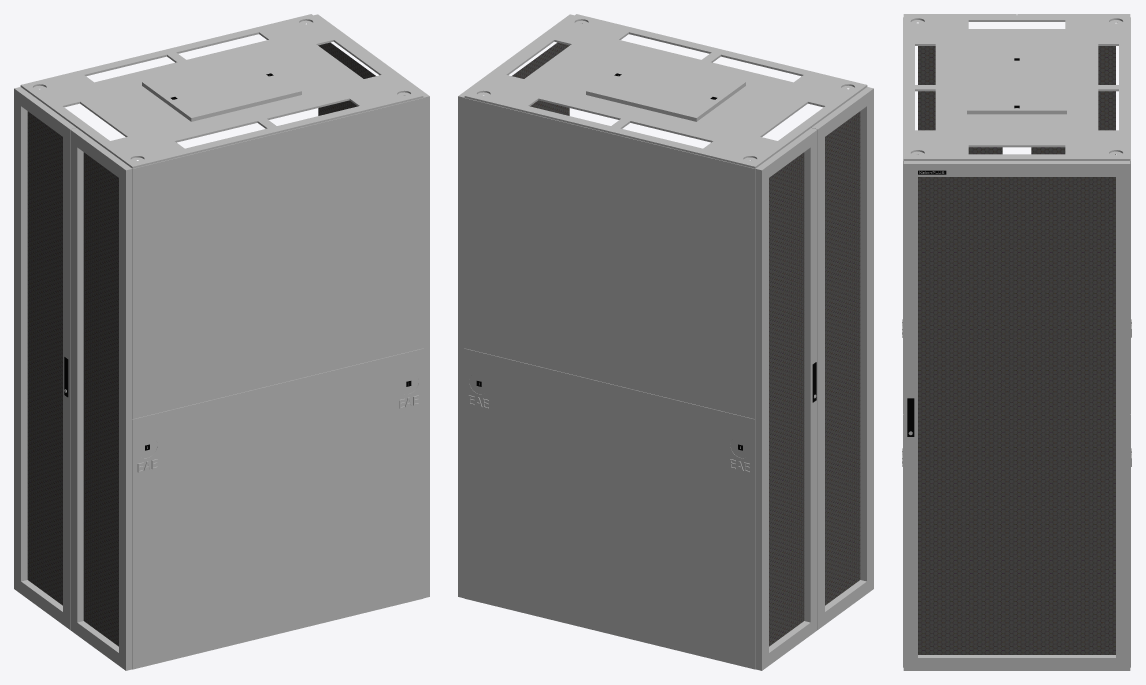
File: KabinPLUS 42U 800 x 1200.glb
3 renders of one model, left to right at view 1: azimuth 30°, elevation 25°; view 2: azimuth 150°, elevation 25°; view 3: azimuth 270°, elevation 25°, orthographic.
Visible parts, largest first — view 1: root; view 2: root; view 3: root.
Part boxes in pixels (x1,y1,x2,y2): root: (14,14,429,670); root: (458,14,873,670); root: (903,14,1130,670).
Bounding box in the file's own units: 1.26 × 2 × 0.8111.
Materials: 6 (1 with a texture image).
